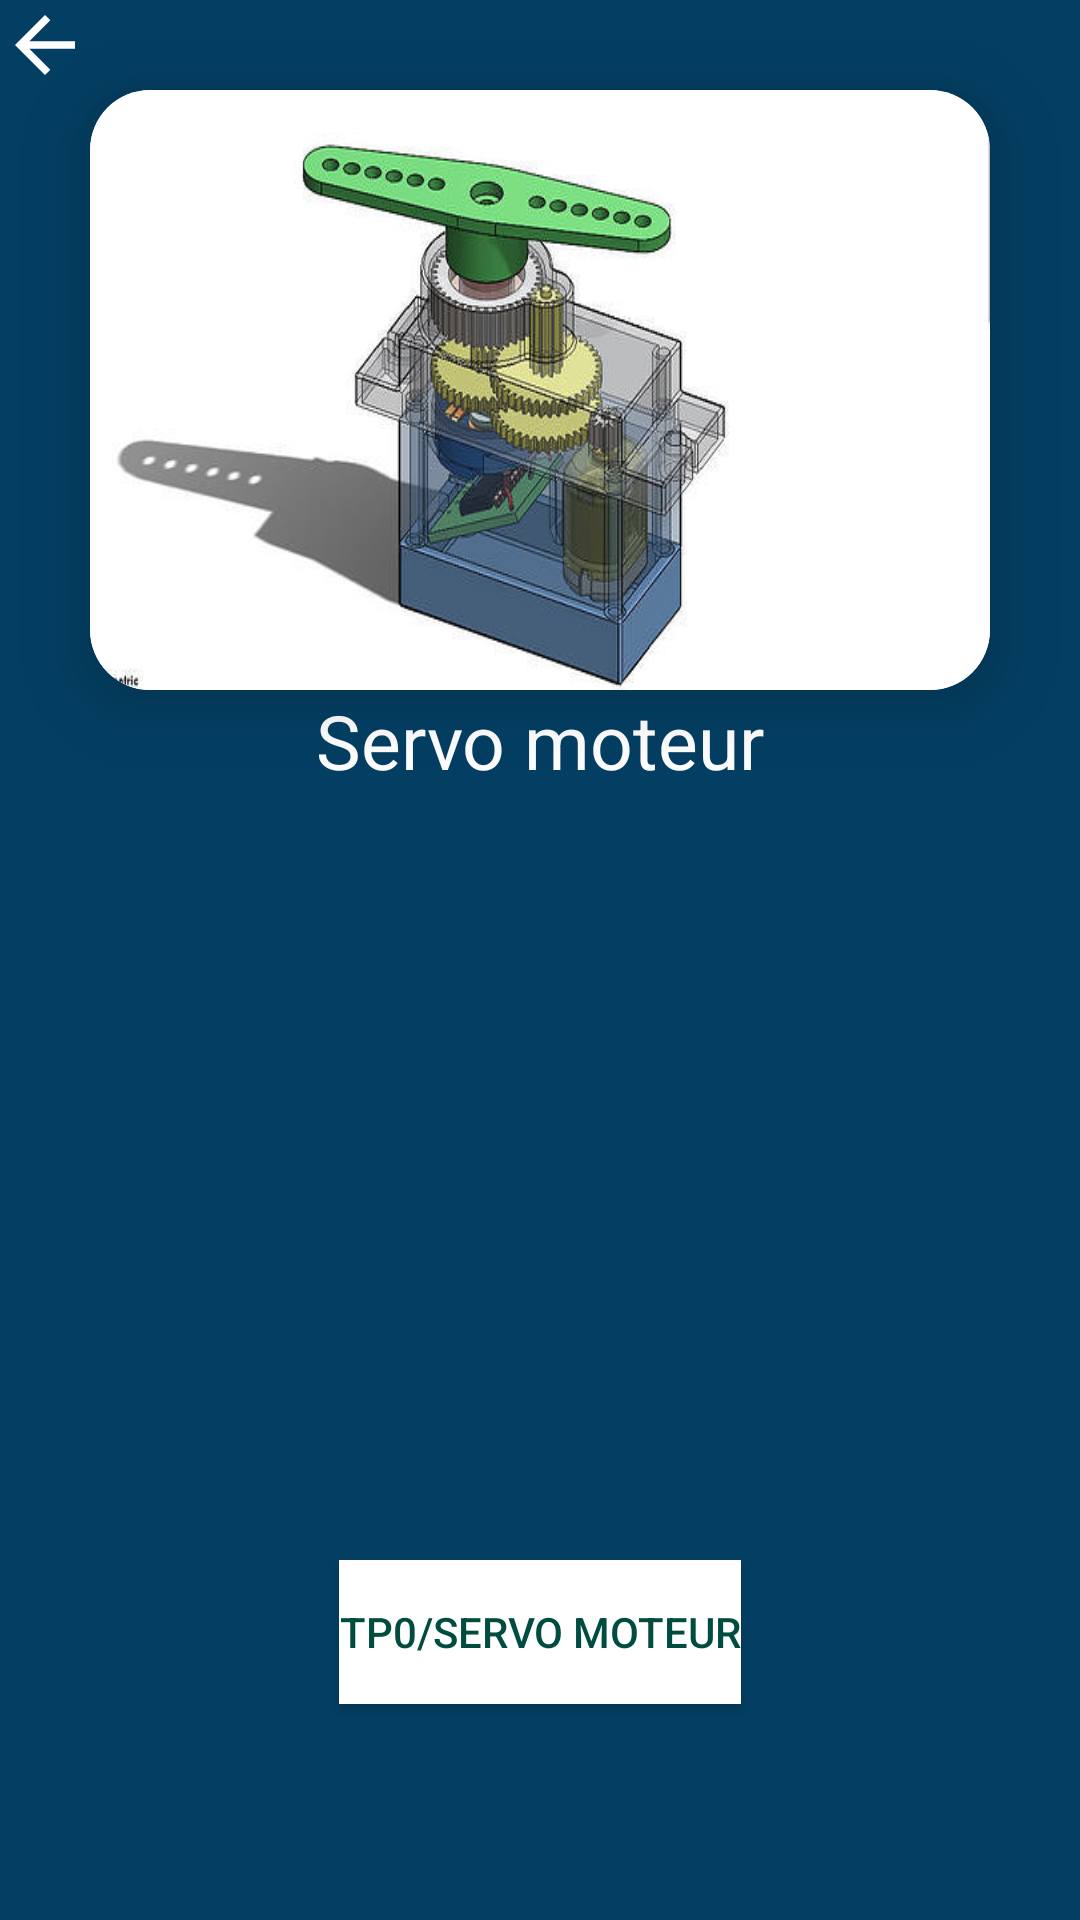

Icon click points for this 1080 x 1920 phone screenshot, format (x=x, y=y):
ret: (x=45, y=45)
